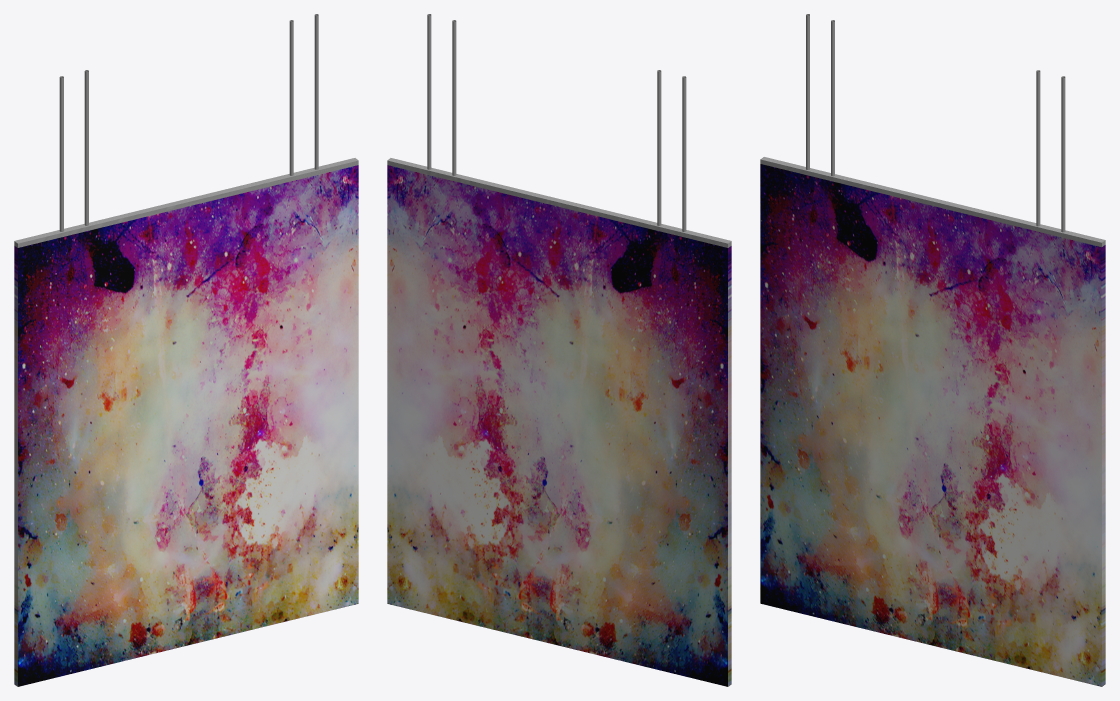
The model's file is Picture4.fbx.
3 views of the same model, side by side, from view 1: azimuth 30°, elevation 25°; view 2: azimuth 150°, elevation 25°; view 3: azimuth 330°, elevation 25° (orthographic).
Visible parts, largest first — view 1: Empty_Mesh; view 2: Empty_Mesh; view 3: Empty_Mesh.
Boxes of the visible parts, x1=… form: Empty_Mesh: x1=14, y1=14, x2=358, y2=686; Empty_Mesh: x1=387, y1=14, x2=731, y2=686; Empty_Mesh: x1=760, y1=14, x2=1105, y2=686.
Size of the model in its own units: 194 by 324 by 3.64.
